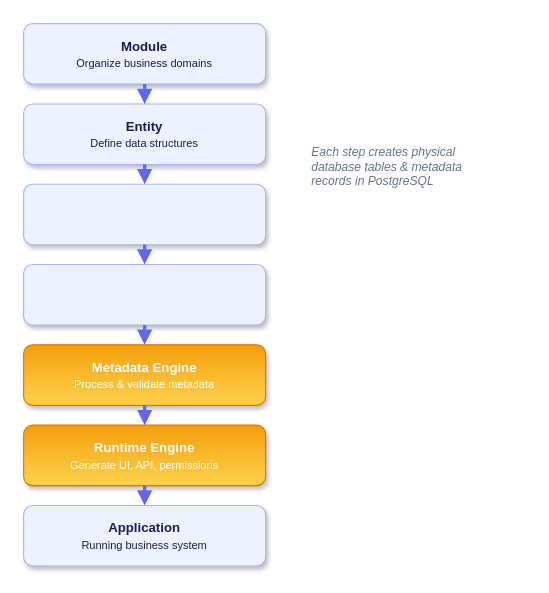
This 549x593 diagram has some shape labels left out. Each missing label, with the centre of its shape:
"Fields Configure columns & types" belongs at point 145,215.
"Relations Connect entities together" belongs at point 145,296.
